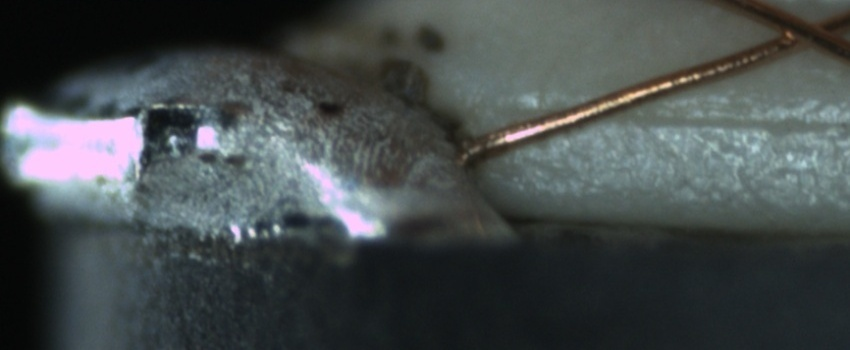CL: (751, 3, 846, 56)
DL: (528, 88, 850, 150)
